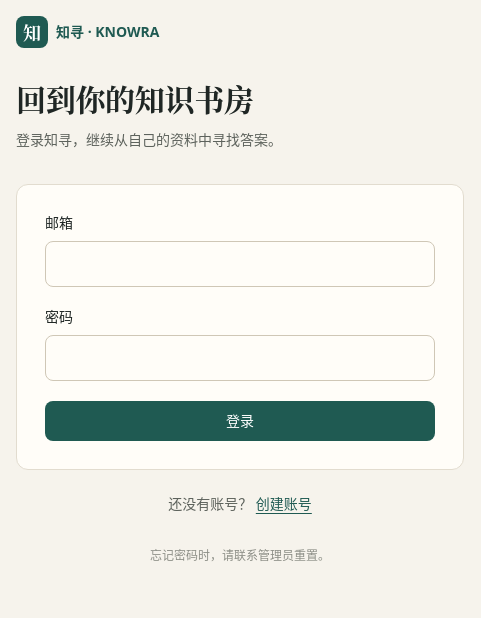
Test: LoginView › 失败时显示原因、保留邮箱并清空密码
Type "member@example.com" into the field labelled "邮箱" at (240, 264), box x1=45 y1=241 x2=435 y2=287
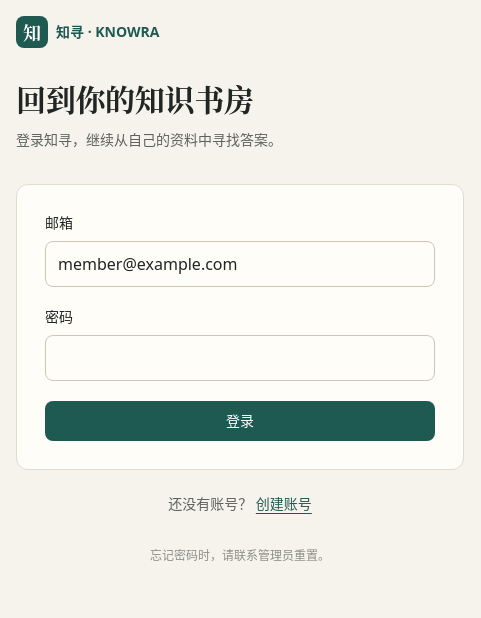
Type "Knowra-Pass-2026" into the password field labelled "密码" at (240, 358), box x1=45 y1=335 x2=435 y2=381
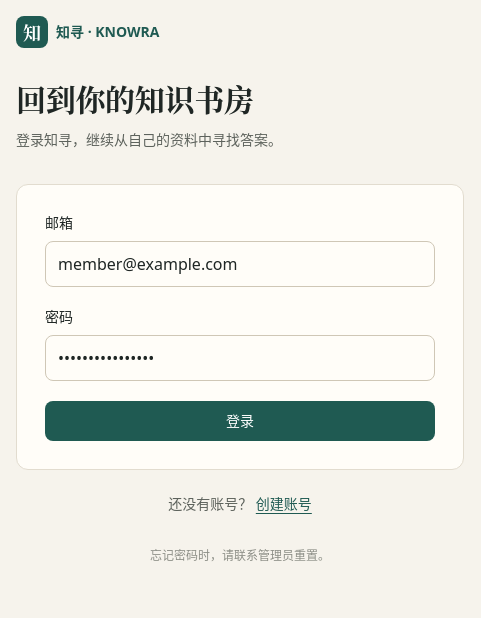
Submit the form with test id "login-form", box x1=16 y1=184 x2=464 y2=470
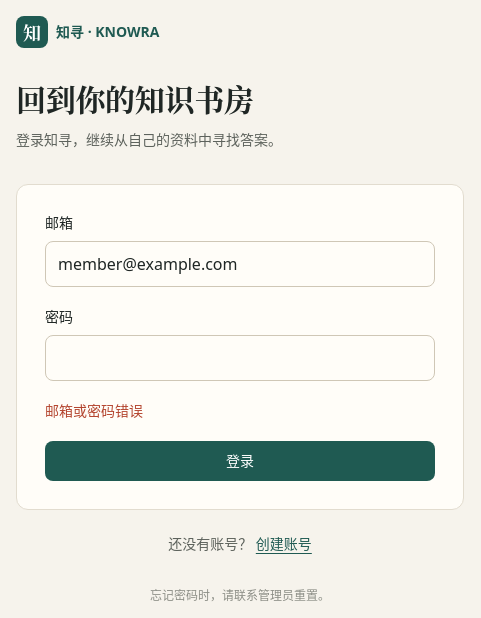
Check: the message "邮箱或密码错误" is shown, box x1=45 y1=401 x2=143 y2=420
Check: the password field labelled "密码" is empty, box x1=45 y1=335 x2=435 y2=381
